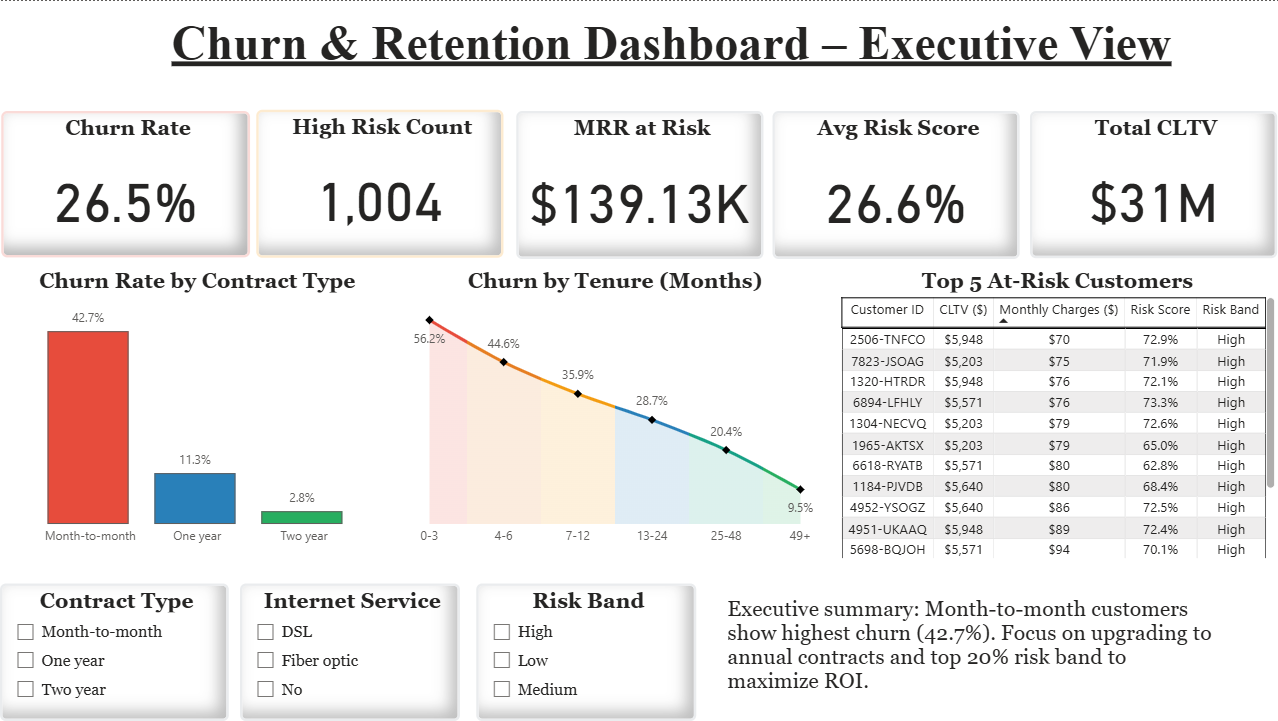

What the dashboard file says about the page in this screenshot:
{"tool":"powerbi","page":{"name":"Executive","canvas":[1280,720],"ordinal":0},"visuals":[{"type":"card","title":"Churn Rate","fields":{"Values":["ibm_telco_scored.Churn Rate"]},"box":[1.2,110,248.8,146.2],"z":0},{"type":"card","title":"Avg Risk Score","fields":{"Values":["ibm_telco_scored.Avg Risk Score"]},"box":[772.8,110.1,247,148],"z":1000},{"type":"card","title":"MRR at Risk","fields":{"Values":["ibm_telco_scored.MRR at Risk"]},"box":[516,110.1,247,148],"z":2000},{"type":"card","title":"High Risk Count","fields":{"Values":["ibm_telco_scored.High Risk Count"]},"box":[256.8,108.8,247,148],"z":3000},{"type":"card","title":"Total CLTV","fields":{"Values":["ibm_telco_scored.Total CLTV"]},"box":[1030,110,247.5,147.5],"z":4000},{"type":"columnChart","title":"Churn Rate by Contract Type","fields":{"Category":["ibm_telco_scored.contract"],"Y":["ibm_telco_scored.Churn Rate"]},"box":[0,267.5,394.8,285.7],"z":5000},{"type":"lineChart","title":"Churn by Tenure (Months)","fields":{"Y":["ibm_telco_scored.Churn Rate"],"Category":["ibm_telco_scored.tenure_buckets"]},"box":[394.8,267.5,440.3,285.7],"z":6000},{"type":"tableEx","title":"Top 5 At-Risk Customers","fields":{"Values":["ibm_telco_scored.customerid","ibm_telco_scored.cltv","ibm_telco_scored.monthly_charges","ibm_telco_scored.risk_score","ibm_telco_scored.risk_band"]},"box":[835.2,267.8,445.1,294.7],"z":7000},{"type":"slicer","title":"Contract Type","fields":{"Values":["ibm_telco_scored.contract"]},"box":[0,582.5,228.8,137.5],"z":8000},{"type":"slicer","title":"Internet Service","fields":{"Values":["ibm_telco_scored.internet_service"]},"box":[240,582.5,220,137.5],"z":9000},{"type":"slicer","title":"Risk Band","fields":{"Values":["ibm_telco_scored.risk_band"]},"box":[476.2,582.5,220,137.5],"z":10000},{"type":"textbox","box":[722.1,590.9,496.1,128.6],"z":11000},{"type":"textbox","box":[150.4,9.8,1043.1,89.3],"z":12000}]}

Visuals, with their boxes in screenshot pixels (x1, y1, x2, y2), scaled from the page's 1280x720 canvas onto the 1278x721 screenshot:
"Churn Rate" card: 1 110 250 257
"Avg Risk Score" card: 772 110 1018 258
"MRR at Risk" card: 515 110 762 258
"High Risk Count" card: 256 109 503 257
"Total CLTV" card: 1028 110 1276 258
"Churn Rate by Contract Type" columnChart: 0 268 394 554
"Churn by Tenure (Months)" lineChart: 394 268 834 554
"Top 5 At-Risk Customers" tableEx: 834 268 1277 563
"Contract Type" slicer: 0 583 228 720
"Internet Service" slicer: 240 583 459 720
"Risk Band" slicer: 475 583 695 720
textbox: 721 592 1216 720
textbox: 150 10 1192 99
